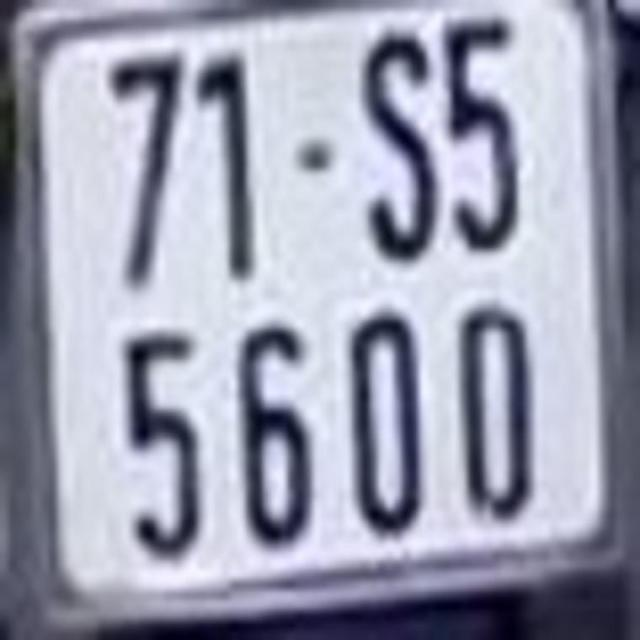0: (350, 310, 424, 532), (461, 302, 532, 520)
1: (195, 51, 265, 279)
5: (123, 330, 205, 558), (446, 16, 523, 253)
6: (238, 320, 314, 547)
7: (107, 48, 184, 288)
S: (360, 28, 438, 262)
